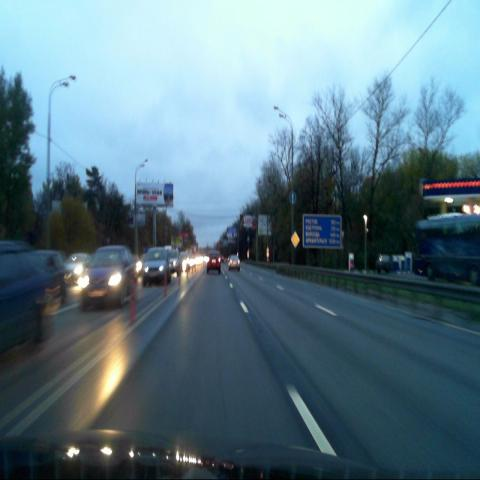2_1: (290, 230, 300, 247)
4_1_1: (289, 191, 296, 204)
